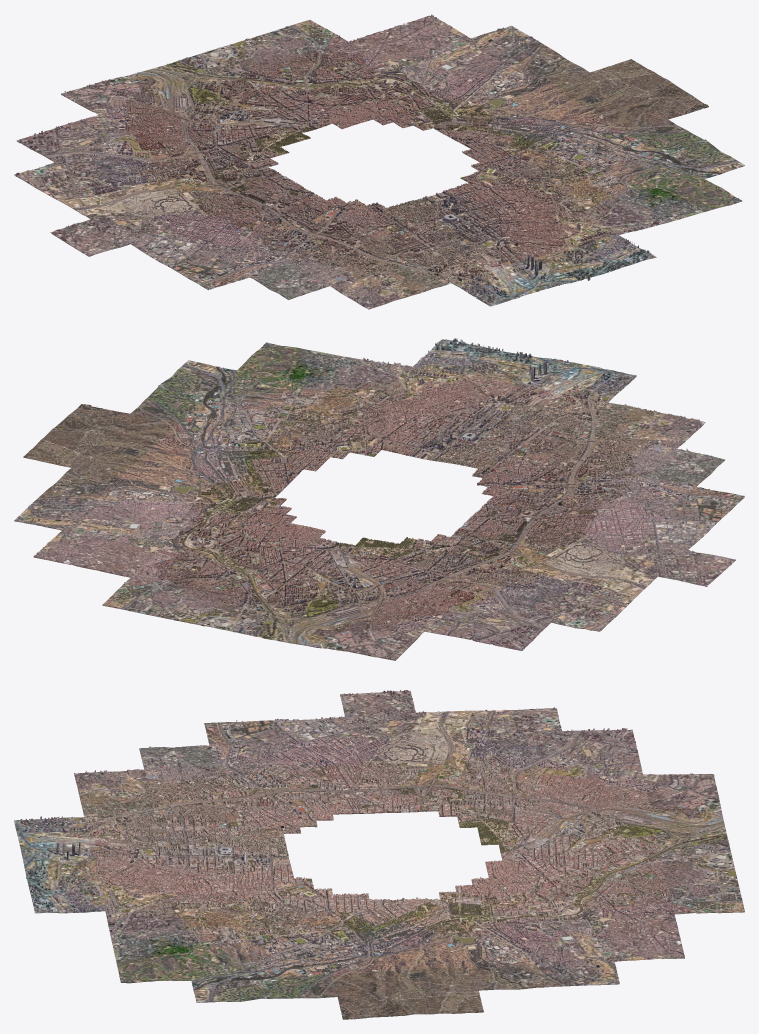
The model's file is fern.glb.
The picture shows the model from 3 angles, top to bottom: view 1: azimuth 30°, elevation 25°; view 2: azimuth 150°, elevation 25°; view 3: azimuth 270°, elevation 25°; orthographic projection. The views are drawn at different scales.
Visible parts, largest first — view 1: k3, k23, k38, k20, k36, k33, k21, k32, k22, k31, k13, k25 (+25 smaller); view 2: k5, k11, k6, k19, k12, k21, k22, k2, k13, k10, k23, k14 (+25 smaller); view 3: k35, k34, k30, k9, k1, k36, k29, k32, k7, k2, k4, k0 (+25 smaller).
Part boxes in pixels (bbox=[...]): k3: bbox=[50, 218, 130, 256]; k23: bbox=[330, 273, 410, 309]; k38: bbox=[587, 94, 666, 132]; k20: bbox=[169, 253, 249, 290]; k36: bbox=[629, 81, 708, 119]; k33: bbox=[665, 141, 744, 178]; k21: bbox=[130, 230, 210, 266]; k32: bbox=[579, 199, 659, 234]; k22: bbox=[249, 263, 329, 299]; k31: bbox=[621, 188, 700, 224]; k13: bbox=[349, 28, 428, 64]; k25: bbox=[452, 270, 531, 306]; k5: bbox=[472, 612, 551, 650]; k11: bbox=[151, 586, 228, 625]; k6: bbox=[551, 594, 628, 631]; k19: bbox=[23, 429, 100, 467]; k12: bbox=[102, 577, 178, 615]; k21: bbox=[638, 513, 715, 549]; k22: bbox=[647, 448, 724, 486]; k2: bbox=[346, 623, 424, 660]; k13: bbox=[82, 540, 159, 577]; k10: bbox=[200, 596, 277, 634]; k23: bbox=[628, 411, 705, 448]; k14: bbox=[33, 530, 111, 567]; k35: bbox=[115, 954, 191, 983]; k34: bbox=[186, 952, 261, 980]; k30: bbox=[29, 885, 105, 913]; k9: bbox=[567, 750, 642, 778]; k1: bbox=[648, 796, 723, 824]; k36: bbox=[337, 991, 413, 1019]; k29: bbox=[24, 862, 99, 889]; k32: bbox=[105, 906, 180, 935]; k7: bbox=[416, 710, 491, 736]; k2: bbox=[643, 773, 718, 799]; k4: bbox=[492, 730, 567, 757]; k0: bbox=[653, 821, 728, 847].
Bounding box in the file's own units: 13237 × 445 × 12589.
Materials: 602 (602 with a texture image).
